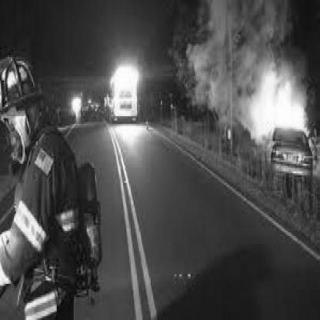other: (69, 90, 85, 122)
